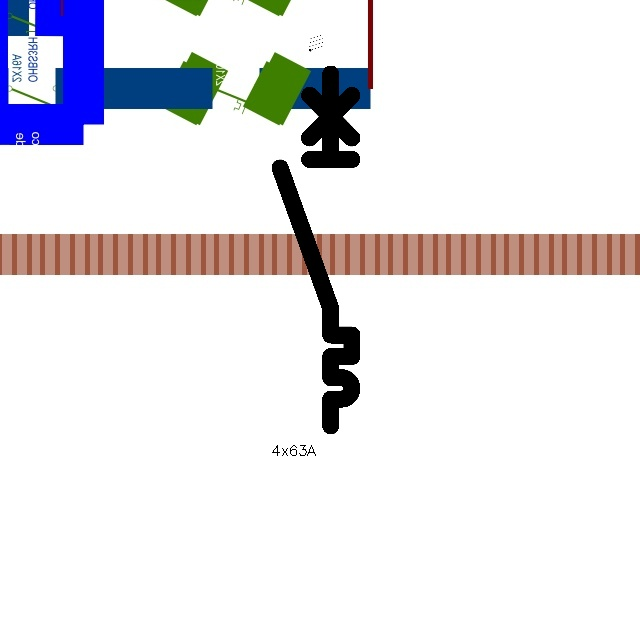interruptor_termomagnetico: (271, 64, 361, 434)
